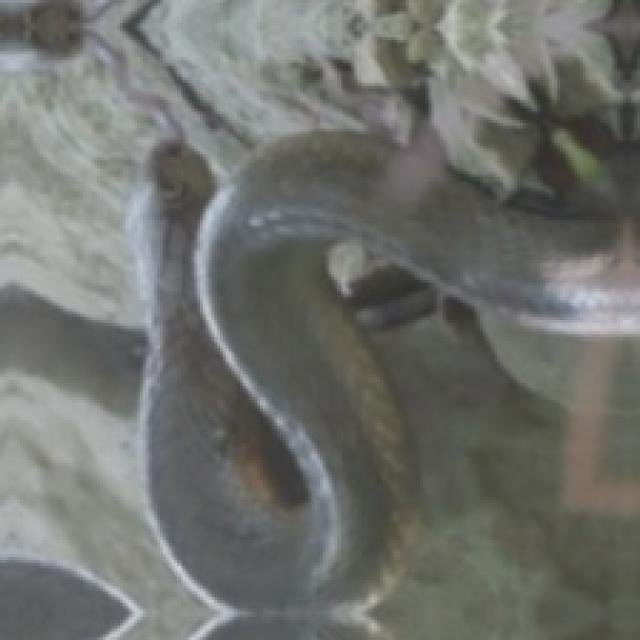king cobra: (131, 131, 574, 614), (480, 311, 637, 509), (403, 317, 546, 520), (423, 543, 637, 637)
